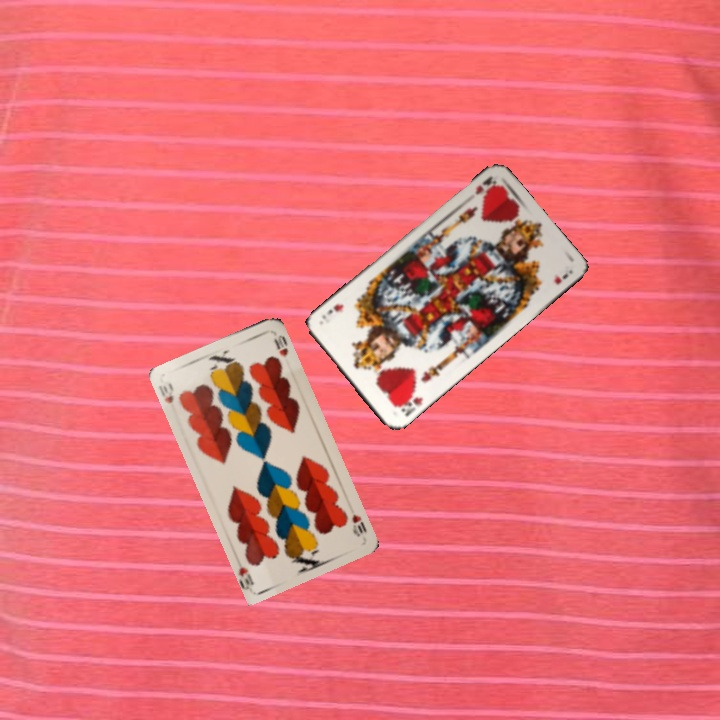H10: (348, 510, 369, 539), (155, 378, 176, 406)
HK: (391, 386, 426, 419), (471, 172, 499, 197)
